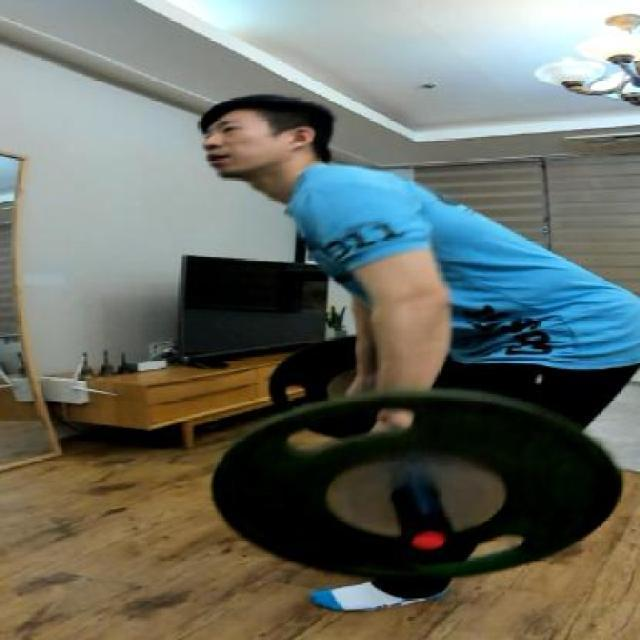barbell: (196, 390, 621, 593)
